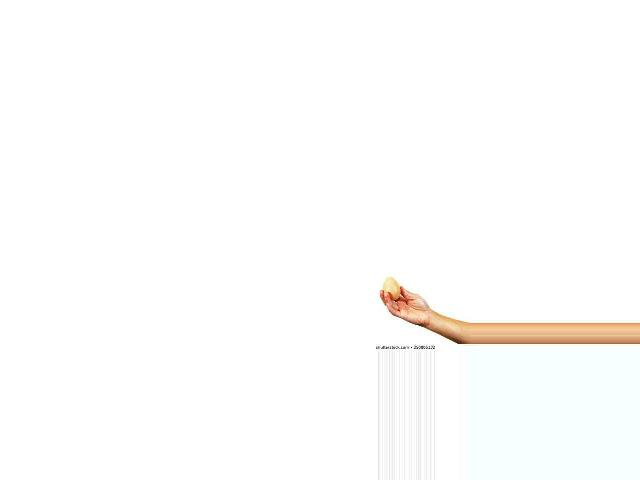egg: (383, 277, 401, 301)
